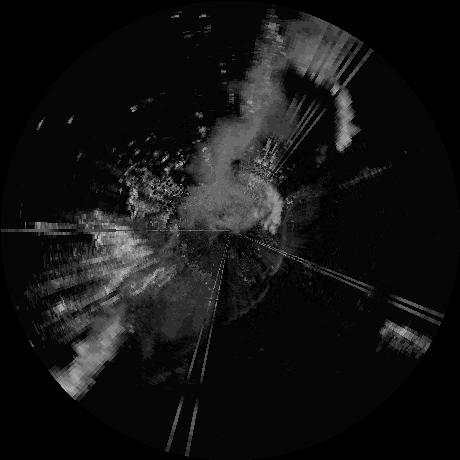frontgust: (271, 209, 291, 275)
